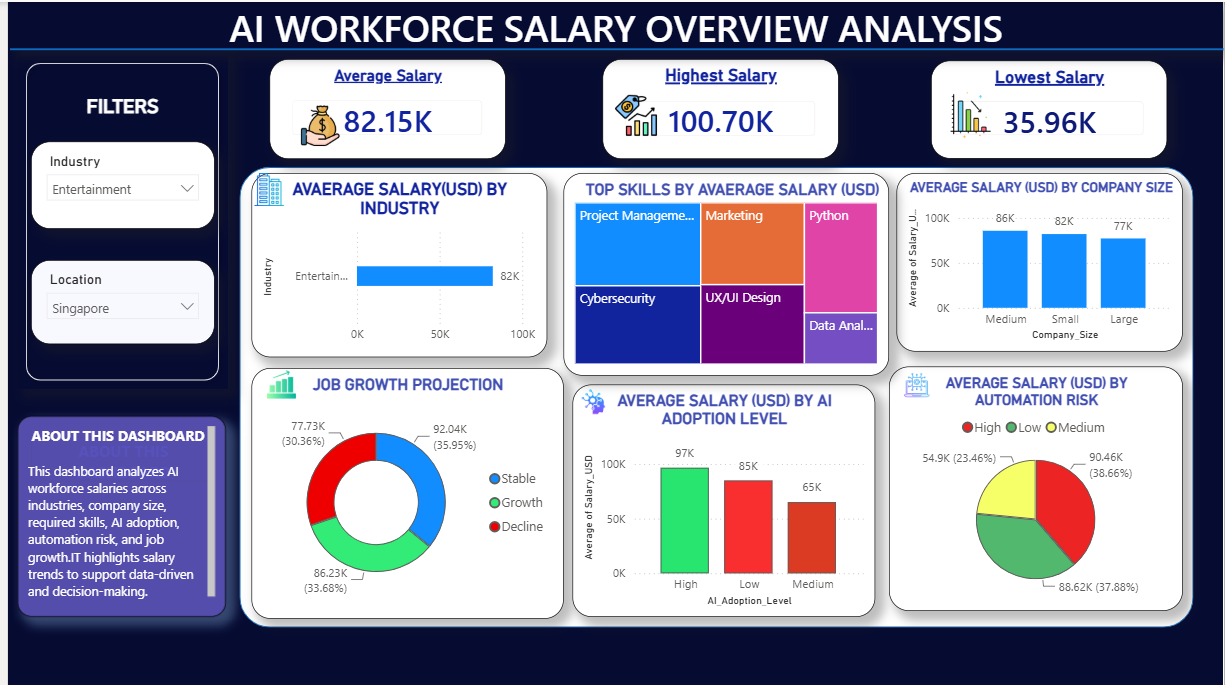

What the dashboard file says about the page in this screenshot:
{"tool":"powerbi","page":{"name":"Salary Overview","canvas":[1280,720],"ordinal":1},"visuals":[{"type":"shape","box":[244.7,173.7,1004.2,484.7],"z":0},{"type":"shape","box":[11.1,55.3,221.1,352.1],"z":1000},{"type":"cardVisual","title":"Lowest Salary","fields":{"Data":["Min(Sheet1.Salary_USD)"]},"box":[973.3,61.7,248.3,103.3],"z":2000},{"type":"cardVisual","title":"Average Salary","fields":{"Data":["Avg(Sheet1.Salary_USD)"]},"box":[276.7,60,248.3,105],"z":3000},{"type":"barChart","title":"AVAERAGE SALARY(USD) BY INDUSTRY","fields":{"Category":["Sheet1.Industry"],"Y":["Avg(Sheet1.Salary_USD)"]},"box":[257.4,173.7,311.1,194.2],"z":4000},{"type":"donutChart","title":"JOB GROWTH PROJECTION","fields":{"Category":["Sheet1.Job_Growth_Projection"],"Y":["Avg(Sheet1.Salary_USD)"]},"box":[257.4,385.3,328.4,263.7],"z":5000},{"type":"lineStackedColumnComboChart","title":"AVERAGE SALARY (USD) BY AI ADOPTION LEVEL","fields":{"Category":["Sheet1.AI_Adoption_Level"],"Y":["Avg(Sheet1.Salary_USD)"]},"box":[595.3,402.6,319,244.7],"z":6000},{"type":"pieChart","title":" AVERAGE SALARY (USD) BY  AUTOMATION RISK","fields":{"Category":["Sheet1.Automation_Risk"],"Y":["Avg(Sheet1.Salary_USD)"]},"box":[928.4,383.7,309.5,257.4],"z":7000},{"type":"clusteredColumnChart","title":"AVERAGE SALARY (USD) BY COMPANY SIZE","fields":{"Category":["Sheet1.Company_Size"],"Y":["Avg(Sheet1.Salary_USD)"]},"box":[936.3,180,301.6,187.9],"z":8000},{"type":"treemap","title":"TOP SKILLS BY AVAERAGE SALARY (USD)","fields":{"Group":["Sheet1.Required_Skills"],"Values":["Avg(Sheet1.Salary_USD)"]},"box":[585.8,180,342.6,213.2],"z":9000},{"type":"slicer","fields":{"Values":["Sheet1.Industry"]},"box":[25,146.7,193.3,91.7],"z":10000},{"type":"slicer","fields":{"Values":["Sheet1.Location"]},"box":[25,271.7,193.3,88.3],"z":11000},{"type":"cardVisual","title":"Highest Salary","fields":{"Data":["Max(Sheet1.Salary_USD)"]},"box":[626.7,60,248.3,105],"z":12000},{"type":"image","box":[304.4,109,50,42.4],"z":13000},{"type":"image","box":[640,91.7,45,55],"z":14000},{"type":"image","box":[990,91.7,48.3,55],"z":15000},{"type":"image","box":[936.3,390,42.6,26.8],"z":16000},{"type":"image","box":[595.3,407.4,44.2,26.8],"z":17000},{"type":"image","box":[266.8,385.3,44.2,34.7],"z":18000},{"type":"image","box":[257.4,180,37.9,34.7],"z":19000},{"type":"textbox","title":"FILTERS","box":[25.3,97.9,192.6,28.4],"z":20000},{"type":"textbox","title":"ABOUT THIS DASHBOARD","box":[25,458.3,193.3,46.7],"z":21000},{"type":"textbox","box":[11.1,435.8,219.5,211.6],"z":22000},{"type":"textbox","title":"AI WORKFORCE SALARY OVERVIEW ANALYSIS","box":[1.6,0,1279,50.5],"z":23000},{"type":"shape","box":[3.2,4.7,1277.4,90],"z":24000}]}

Visuals, with their boxes in screenshot pixels (x1, y1, x2, y2), scaled from the page's 1280x720 canvas onto the 1225x685 screenshot:
shape: left=234, top=165, right=1195, bottom=626
shape: left=11, top=53, right=222, bottom=388
"Lowest Salary" cardVisual: left=931, top=59, right=1169, bottom=157
"Average Salary" cardVisual: left=265, top=57, right=502, bottom=157
"AVAERAGE SALARY(USD) BY INDUSTRY" barChart: left=246, top=165, right=544, bottom=350
"JOB GROWTH PROJECTION" donutChart: left=246, top=367, right=561, bottom=617
"AVERAGE SALARY (USD) BY AI ADOPTION LEVEL" lineStackedColumnComboChart: left=570, top=383, right=875, bottom=616
" AVERAGE SALARY (USD) BY  AUTOMATION RISK" pieChart: left=889, top=365, right=1185, bottom=610
"AVERAGE SALARY (USD) BY COMPANY SIZE" clusteredColumnChart: left=896, top=171, right=1185, bottom=350
"TOP SKILLS BY AVAERAGE SALARY (USD)" treemap: left=561, top=171, right=889, bottom=374
slicer - Sheet1.Industry: left=24, top=140, right=209, bottom=227
slicer - Sheet1.Location: left=24, top=258, right=209, bottom=342
"Highest Salary" cardVisual: left=600, top=57, right=837, bottom=157
image: left=291, top=104, right=339, bottom=144
image: left=612, top=87, right=656, bottom=140
image: left=947, top=87, right=994, bottom=140
image: left=896, top=371, right=937, bottom=397
image: left=570, top=388, right=612, bottom=413
image: left=255, top=367, right=298, bottom=400
image: left=246, top=171, right=283, bottom=204
"FILTERS" textbox: left=24, top=93, right=209, bottom=120
"ABOUT THIS DASHBOARD" textbox: left=24, top=436, right=209, bottom=480
textbox: left=11, top=415, right=221, bottom=616
"AI WORKFORCE SALARY OVERVIEW ANALYSIS" textbox: left=2, top=0, right=1224, bottom=48
shape: left=3, top=4, right=1224, bottom=90
